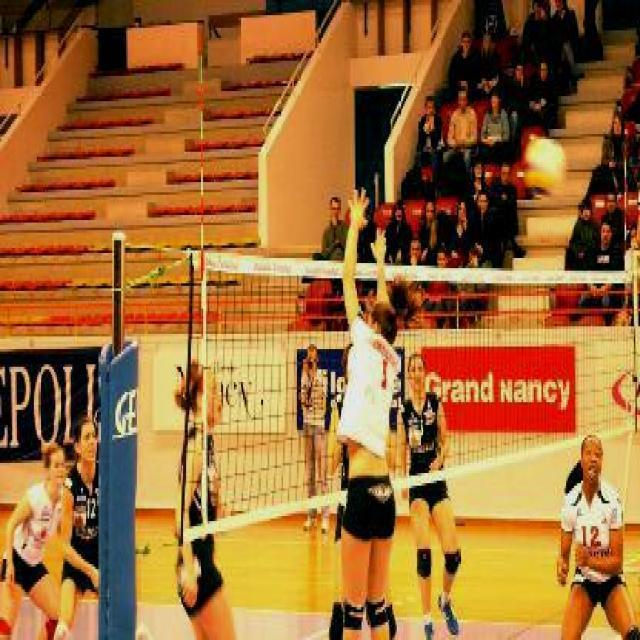volleyball: (522, 137, 568, 199)
